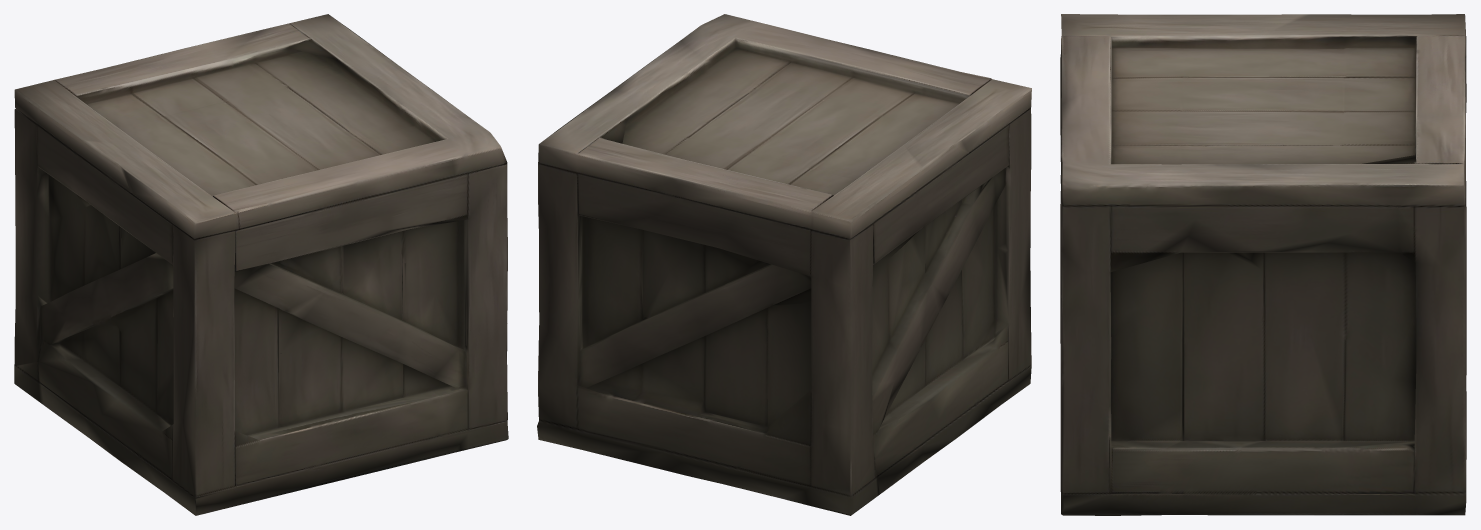
The model's file is wooden_crate_large.glb.
The picture shows the model from 3 angles, left to right: view 1: azimuth 30°, elevation 25°; view 2: azimuth 150°, elevation 25°; view 3: azimuth 270°, elevation 25°; orthographic projection. The views are drawn at different scales.
Visible parts, largest first — view 1: tripo_node_4b568839-0411-4ae0-ae83-afcd224cee11; view 2: tripo_node_4b568839-0411-4ae0-ae83-afcd224cee11; view 3: tripo_node_4b568839-0411-4ae0-ae83-afcd224cee11.
Boxes of the visible parts, bbox=[...] form: tripo_node_4b568839-0411-4ae0-ae83-afcd224cee11: bbox=[14, 14, 508, 515]; tripo_node_4b568839-0411-4ae0-ae83-afcd224cee11: bbox=[537, 14, 1031, 515]; tripo_node_4b568839-0411-4ae0-ae83-afcd224cee11: bbox=[1060, 14, 1466, 515].
Bounding box in the file's own units: 0.9997 × 0.8998 × 1.
Materials: 1 (1 with a texture image).
